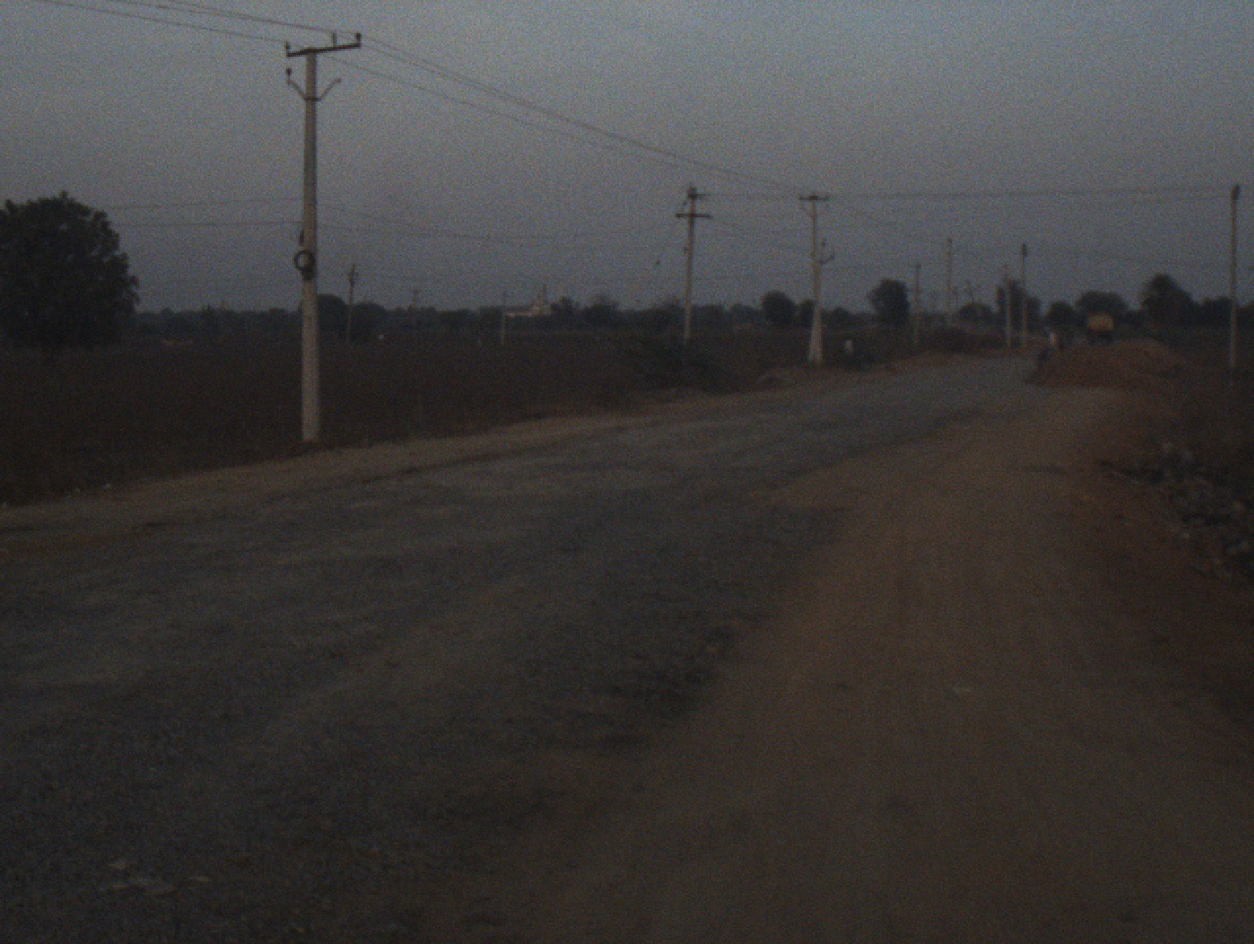person: (1044, 320, 1055, 351), (843, 331, 855, 355), (1059, 325, 1068, 345)
truck: (1089, 306, 1114, 342)
